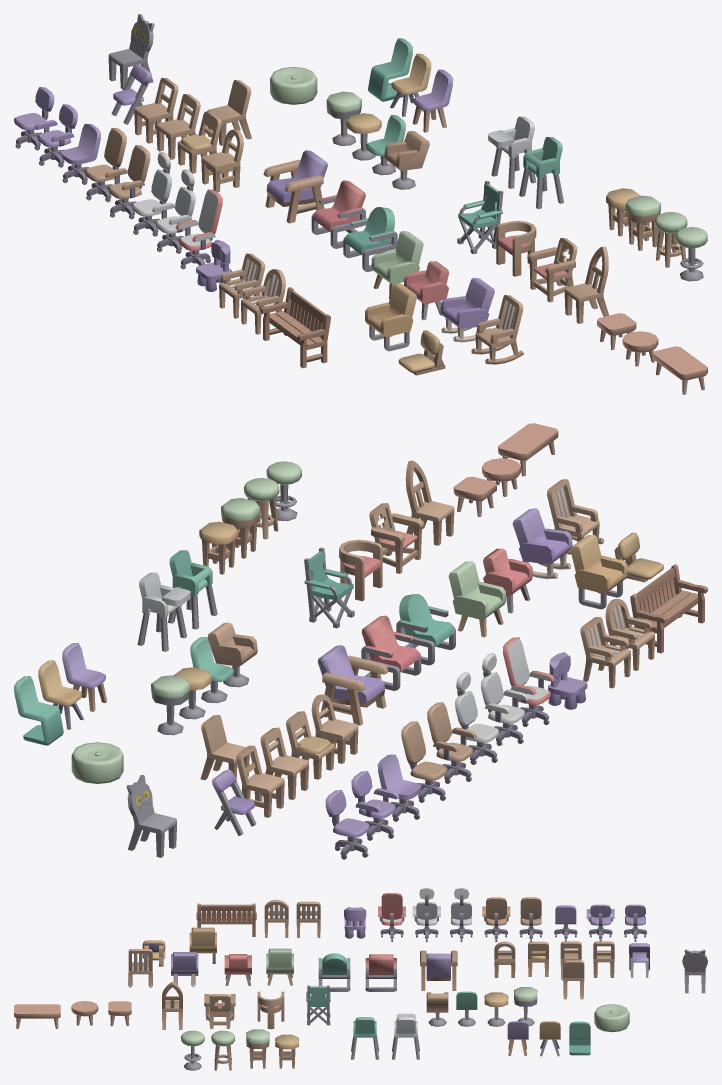
Rendered from chairs.glb.
3 renders of one model, top to bottom at view 1: azimuth 30°, elevation 25°; view 2: azimuth 150°, elevation 25°; view 3: azimuth 270°, elevation 25°, orthographic. The views are drawn at different scales.
Parts seen in each view (by area): view 1: bench-park, comfy-chair (%thumbnail), chair-comfy-legs-metal, comfy-chair-metal, chair-rocking-comfy, comfy-chair-metal-round, chair-rocking-wood, wooden-chair-medieval, chair-camping, desk-chair-gamer, chair-comfy-legs, chair-childrens (+37 smaller); view 2: comfy-chair (%thumbnail), bench-park, chair-comfy-legs-metal, chair-rocking-comfy, comfy-chair-metal, chair-comfy-legs, comfy-chair-metal-round, chair-camping, wooden-chair-medieval, chair-childrens-table, wooden-chair-cat, desk-chair-gamer (+37 smaller); view 3: bench-park, comfy-chair (%thumbnail), comfy-chair-metal, desk-chair-gamer, comfy-chair-metal-round, desk-chair-head-armrests, wooden-chair-medieval, desk-chair-high-armrests, poof-round (%secret), desk-chair-head, chair-comfy-legs, chair-camping (+37 smaller).
Boxes of the visible parts, <box> form: bench-park: <box>260,287,330,368</box>; comfy-chair (%thumbnail): <box>263,150,327,223</box>; chair-comfy-legs-metal: <box>365,283,416,351</box>; comfy-chair-metal: <box>311,180,365,248</box>; chair-rocking-comfy: <box>440,277,494,342</box>; comfy-chair-metal-round: <box>343,207,397,271</box>; chair-rocking-wood: <box>471,295,523,364</box>; wooden-chair-medieval: <box>527,238,577,302</box>; chair-camping: <box>457,180,503,254</box>; desk-chair-gamer: <box>175,189,222,269</box>; chair-comfy-legs: <box>371,231,423,299</box>; chair-childrens: <box>519,137,563,209</box>; comfy-chair (%thumbnail): <box>317,645,388,725</box>; bench-park: <box>630,564,707,653</box>; chair-comfy-legs-metal: <box>570,535,627,609</box>; chair-rocking-comfy: <box>512,508,572,579</box>; comfy-chair-metal: <box>361,615,421,690</box>; chair-comfy-legs: <box>448,561,505,637</box>; comfy-chair-metal-round: <box>396,594,455,665</box>; chair-camping: <box>304,547,354,628</box>; wooden-chair-medieval: <box>369,503,424,573</box>; chair-childrens-table: <box>137,572,190,651</box>; wooden-chair-cat: <box>126,775,176,857</box>; desk-chair-gamer: <box>502,637,554,726</box>; bench-park: <box>196,903,256,936</box>; comfy-chair (%thumbnail): <box>420,950,457,990</box>; comfy-chair-metal: <box>365,954,396,991</box>; desk-chair-gamer: <box>378,893,405,941</box>; comfy-chair-metal-round: <box>318,953,350,991</box>; desk-chair-head-armrests: <box>412,888,440,941</box>; wooden-chair-medieval: <box>204,994,235,1028</box>; desk-chair-high-armrests: <box>482,897,510,941</box>; poof-round (%secret): <box>594,1004,629,1032</box>; desk-chair-head: <box>450,888,472,941</box>; chair-comfy-legs: <box>266,948,293,985</box>; chair-camping: <box>306,985,330,1025</box>.
Size of the model in its own units: 5.87 by 1.02 by 11.87.
